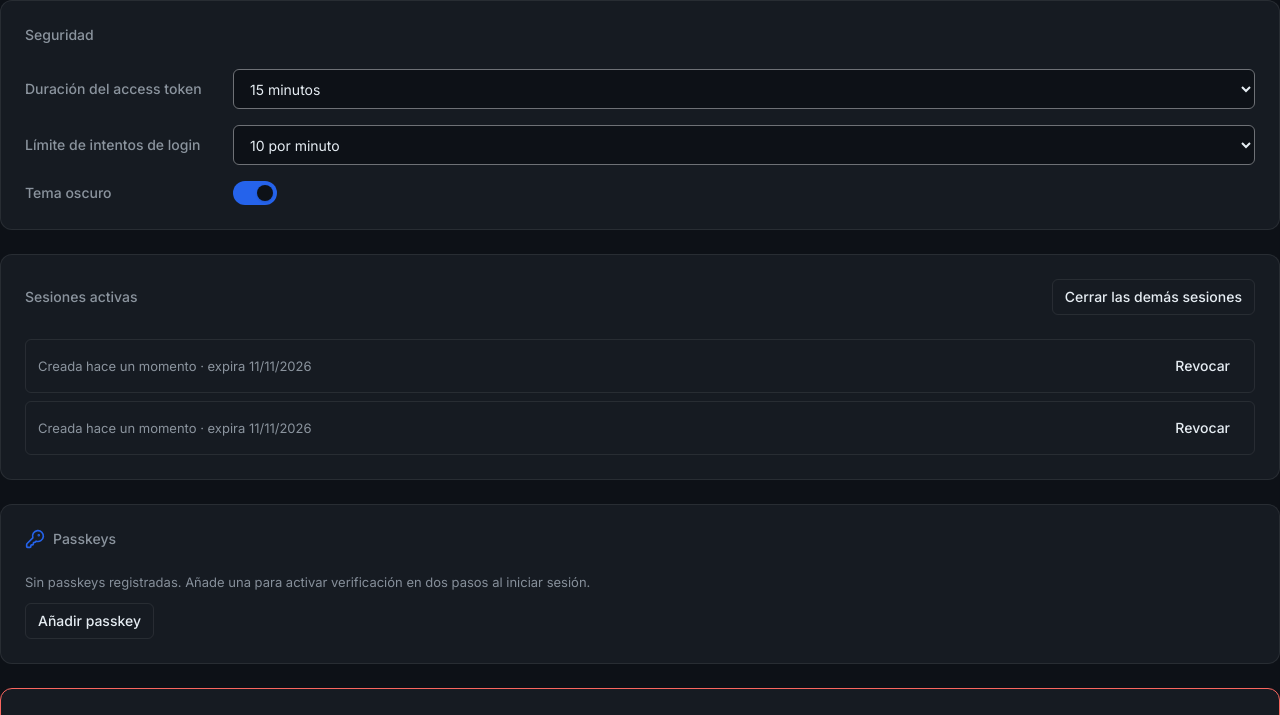
Test: SecuritySection › si las sesiones fallan tras un éxito, se conservan y se marcan como viejas, no como vacías
This screenshot has width=1280, height=715.
Click the button with aria-label "Revocar la sesión". click: (1203, 366)
box: 1163,348 -> 1242,384
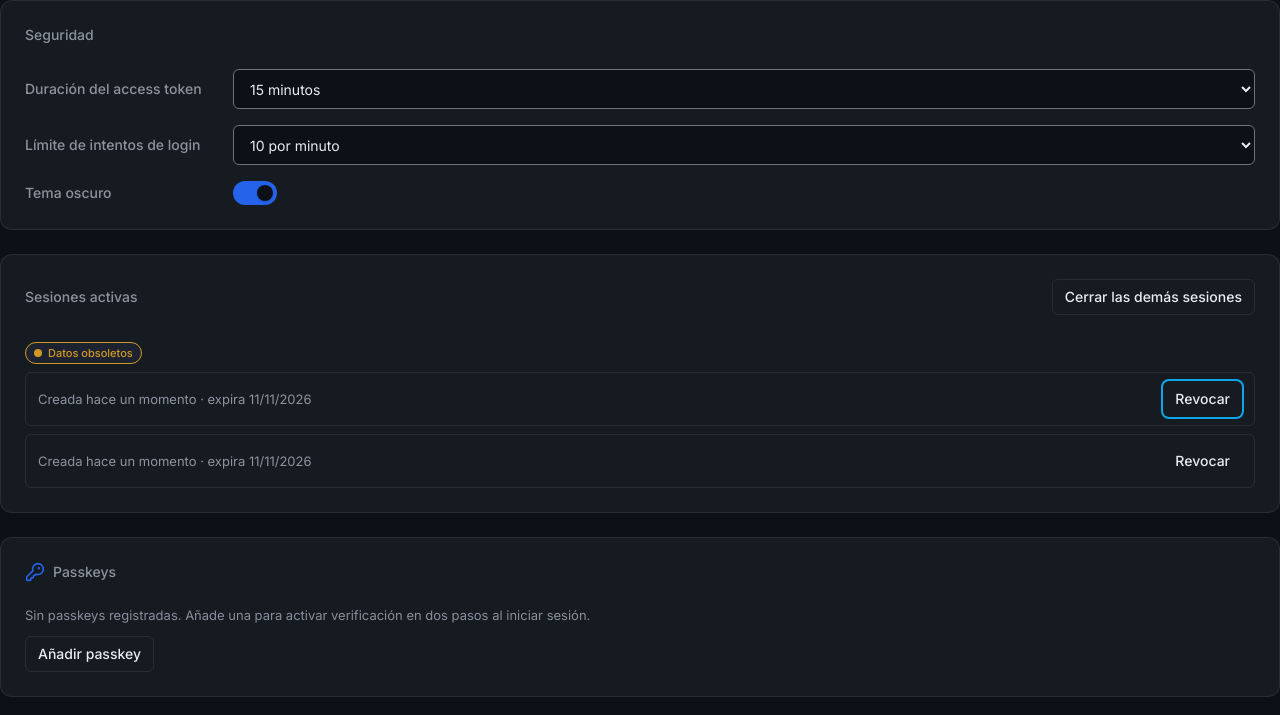
Expected: the number of buttons named "Revocar la sesión" is 2, 1163,381 -> 1242,417; 1163,443 -> 1242,479
Expected: the text "Datos obsoletos" is shown, 25,342 -> 142,364
